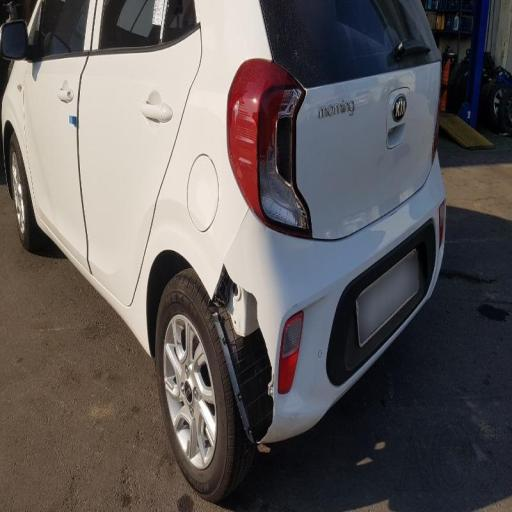broken: (168, 92, 384, 490)
